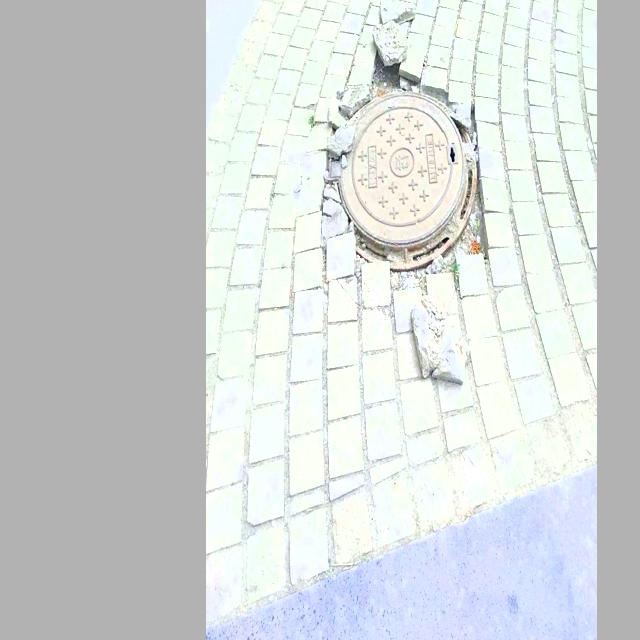circle: (301, 38, 504, 311)
